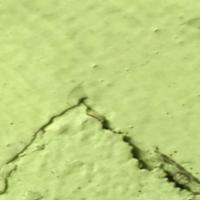crack: (8, 90, 199, 199)
